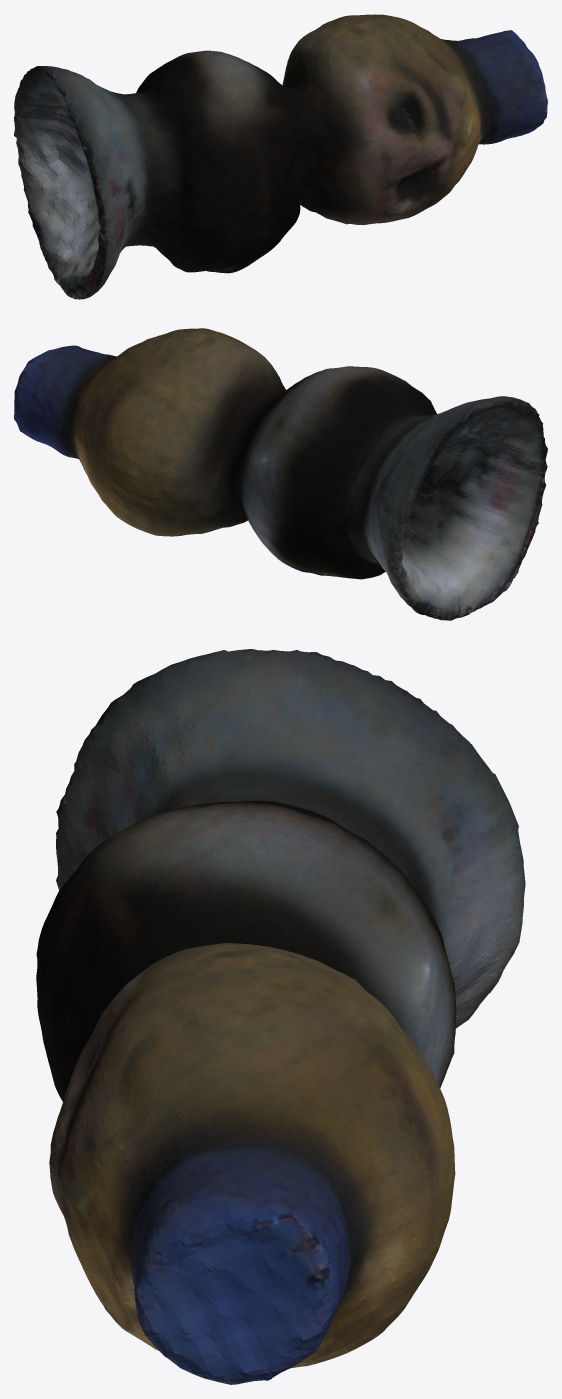
Rendered from center_benchmark_mesh_bottle-evian_frozen.obj.
The picture shows the model from 3 angles, top to bottom: view 1: azimuth 30°, elevation 25°; view 2: azimuth 150°, elevation 25°; view 3: azimuth 270°, elevation 25°; orthographic projection. The views are drawn at different scales.
Bounding box in the file's own units: 0.1914 × 0.0811 × 0.0857.
Materials: 1 (1 with a texture image).
